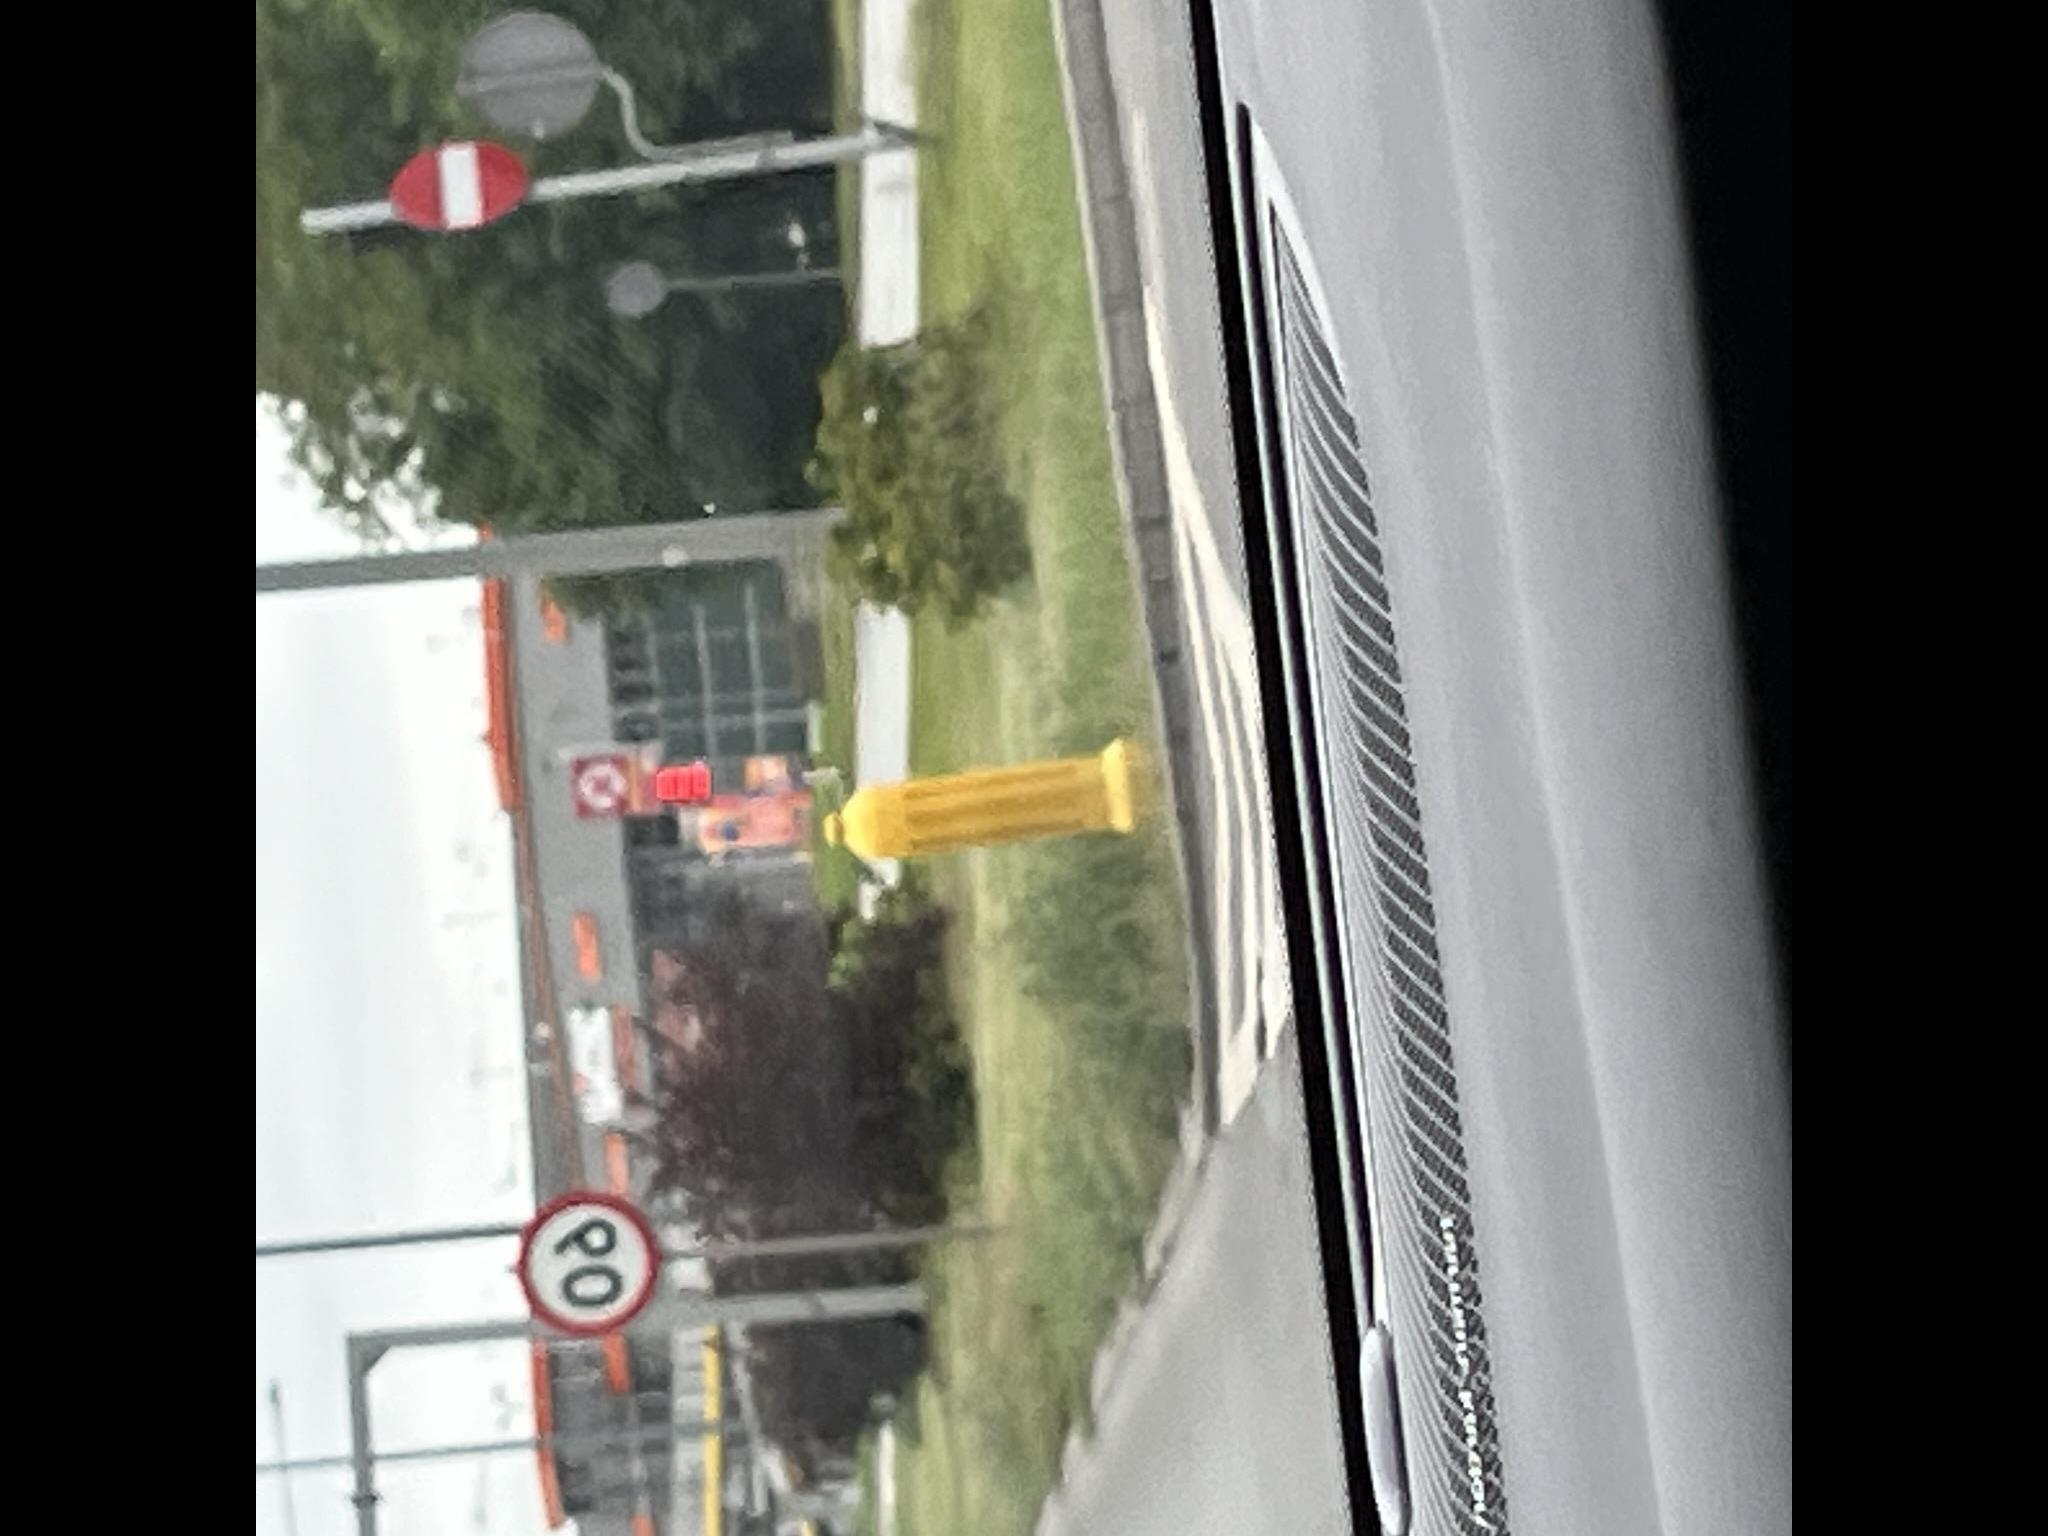prohibitory: (516, 1191, 660, 1336), (389, 139, 531, 232)
